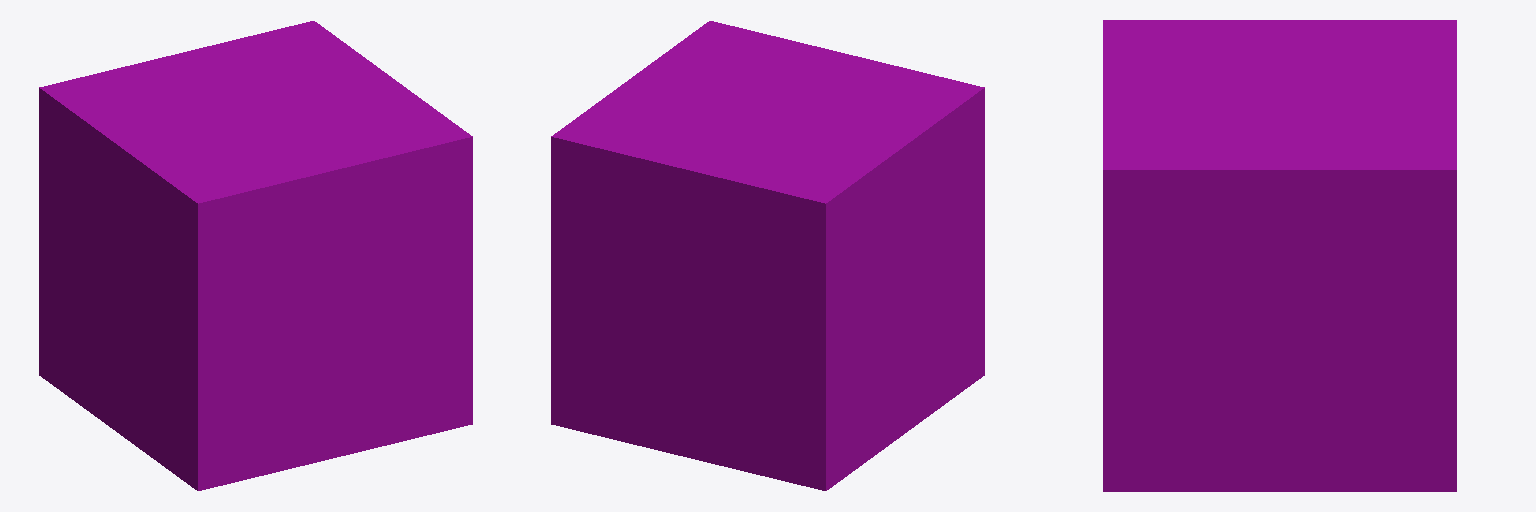
The robot description file, URDF, robot "cube":
<?xml version="1.0" ?>
<robot name="cube">
    <material name="red">
        <color rgba="0.69 0.09 0.12 1"/>
    </material>
    <material name="green">
        <color rgba="0.0 0.69 0.2 1"/>
    </material>
    <material name="blue">
        <color rgba="0.1 0.1 0.69 1"/>
    </material>
    <material name="yellow">
        <color rgba="0.8 0.8 0.0 1"/>
    </material>
    <material name="purple">
        <color rgba="0.69 0.1 0.69 1"/>
    </material>
    <material name="cyan">
        <color rgba="0.0 0.69 0.69 1"/>
    </material>
    <material name="orange">
        <color rgba="0.95 0.5 0.2 1"/>
    </material>
    <material name="pink">
        <color rgba="1 0.75 0.8 1"/>
    </material>

    <link name="cube_link">
        <contact>
          <lateral_friction value="1"/>
          <rolling_friction value="1"/>
          <spinning_friction value="1"/>

          <inertia_scaling value="0.5"/>
        </contact>
        <inertial>
          <origin rpy="0 0 0" xyz="0 0 0"/>
           <mass value="3"/>
           <inertia ixx="0.0" ixy="0.0" ixz="0.0" iyy="0.0" iyz="0.0" izz="0.0"/>
        </inertial>
        <visual>
          <origin rpy="0 0 0" xyz="0 0 0"/>
          <geometry>
            <box size=".06 .06 .06"/>
          </geometry>
          <material name="purple" />
        </visual>
        <collision>
          <origin rpy="0 0 0" xyz="0 0 0"/>
          <geometry>
            <box size=".06 .06 .06"/>
          </geometry>
        </collision>
    </link>

</robot>

--- Facts derived from the render (not from the file) ---
Views: 3 orthographic renders of the robot side by side, from view 1: azimuth 30°, elevation 25°; view 2: azimuth 150°, elevation 25°; view 3: azimuth 270°, elevation 25°.
Robot: cube — 1 links, 0 joints (none); root link cube_link; default pose: every joint at zero.
Visible links, largest first — view 1: cube_link; view 2: cube_link; view 3: cube_link.
Boxes of the visible links, x1,y1,x2,y2 form: cube_link: (39,21,472,490); cube_link: (551,21,984,490); cube_link: (1103,20,1456,491).
Bounding box of the posed robot: 0.06 × 0.06 × 0.06 m (x, y, z).
Geometry: primitives only (box / cylinder / sphere), no mesh files.